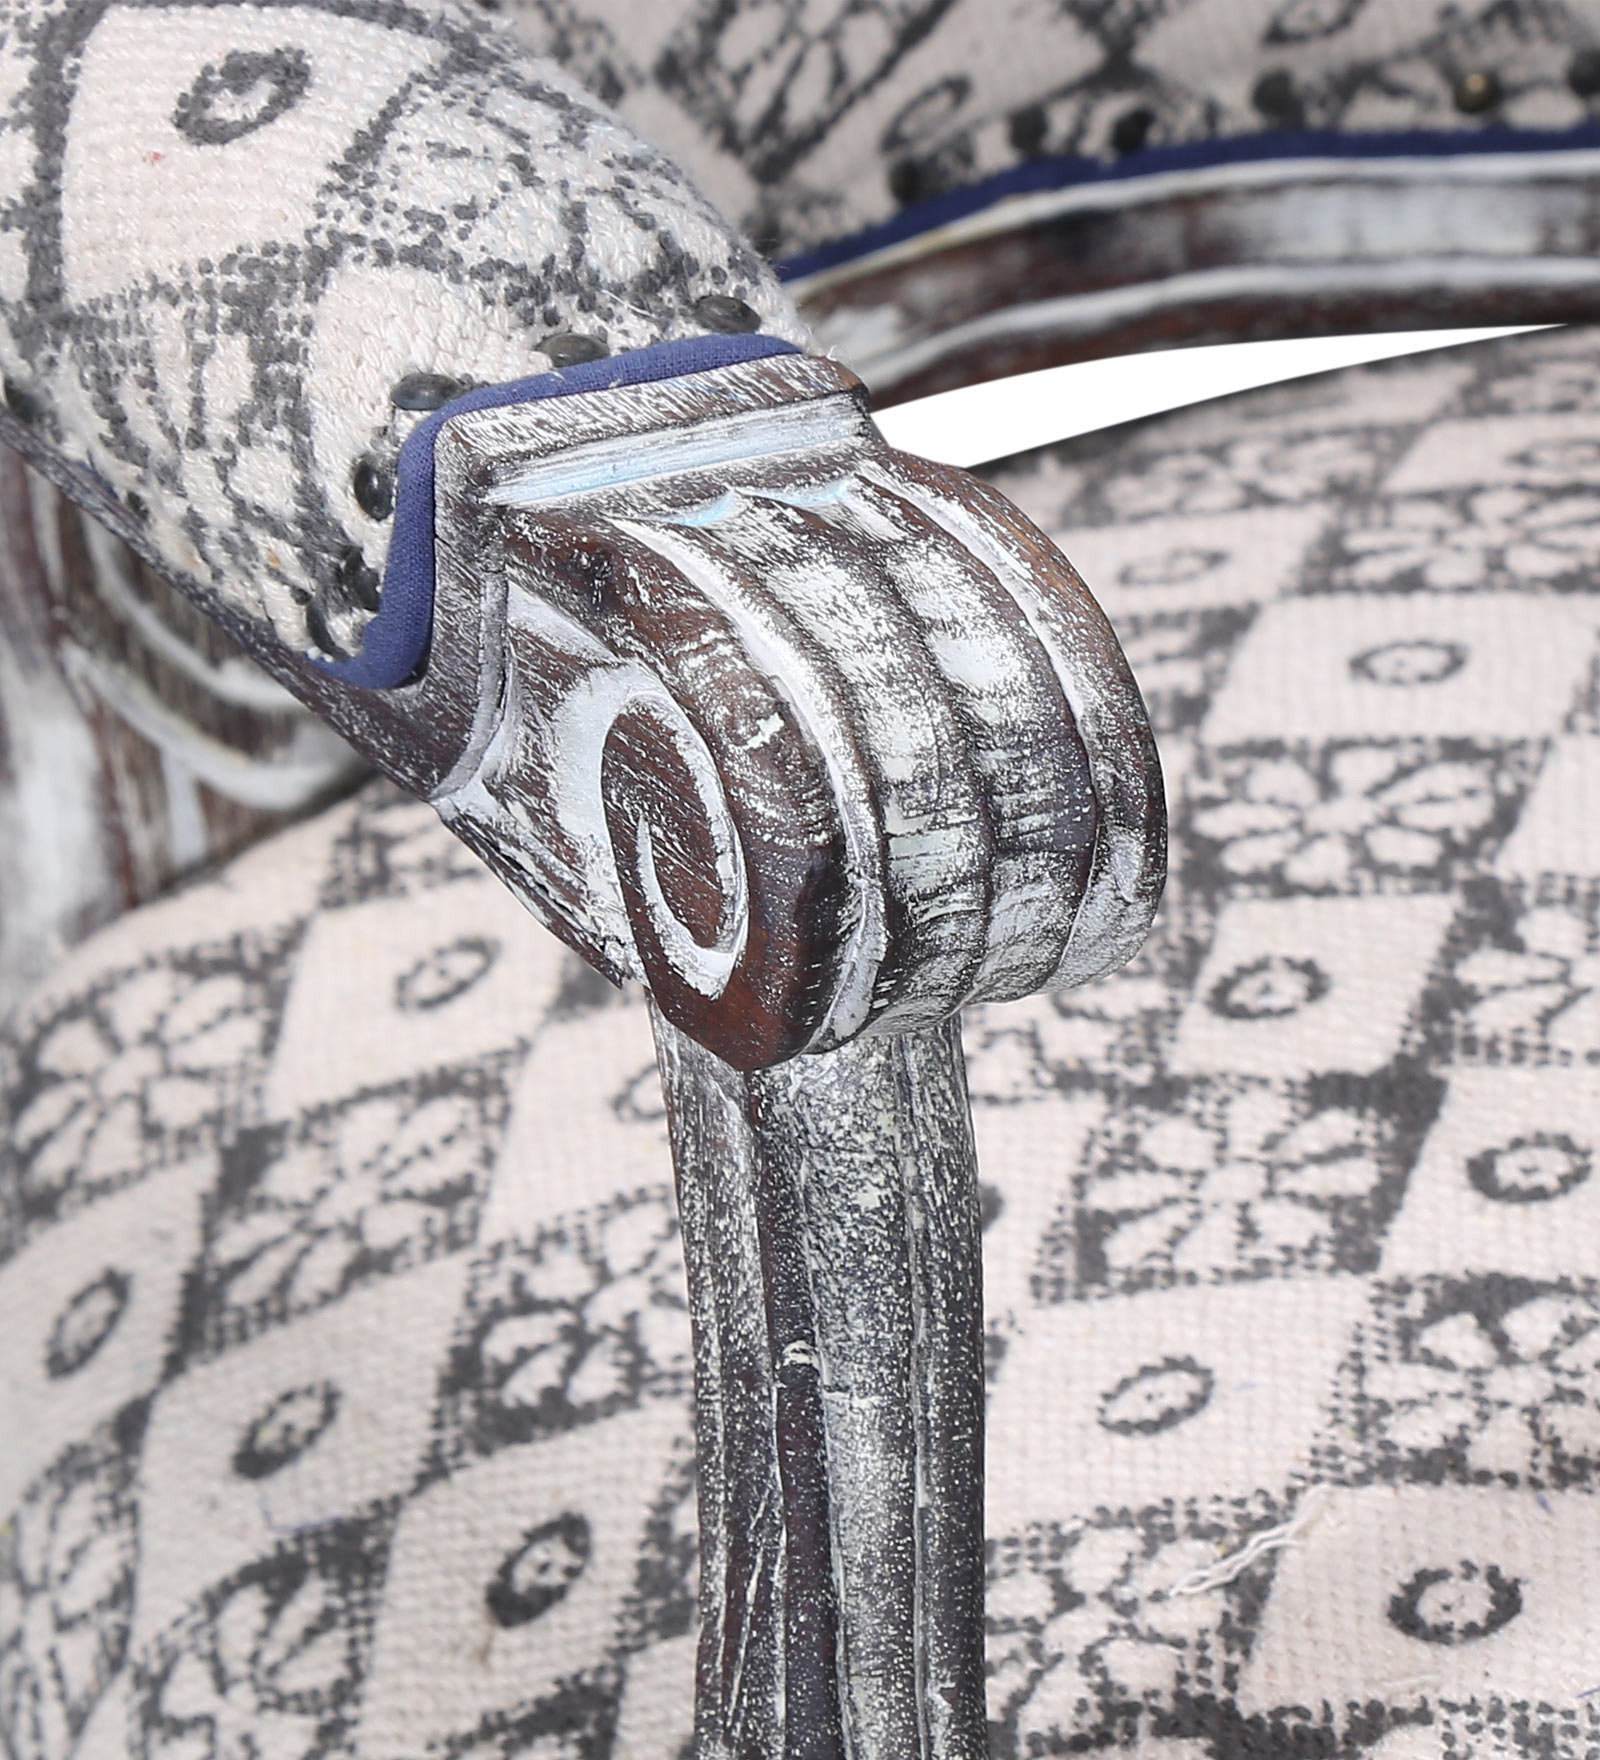Elton Arm Chair in Grey Colour by Bohemiana: (5, 2, 1600, 1755)
